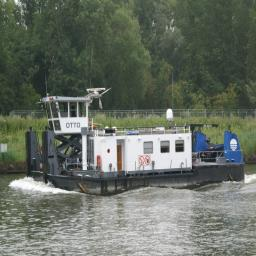tugboat: (25, 74, 249, 204)
